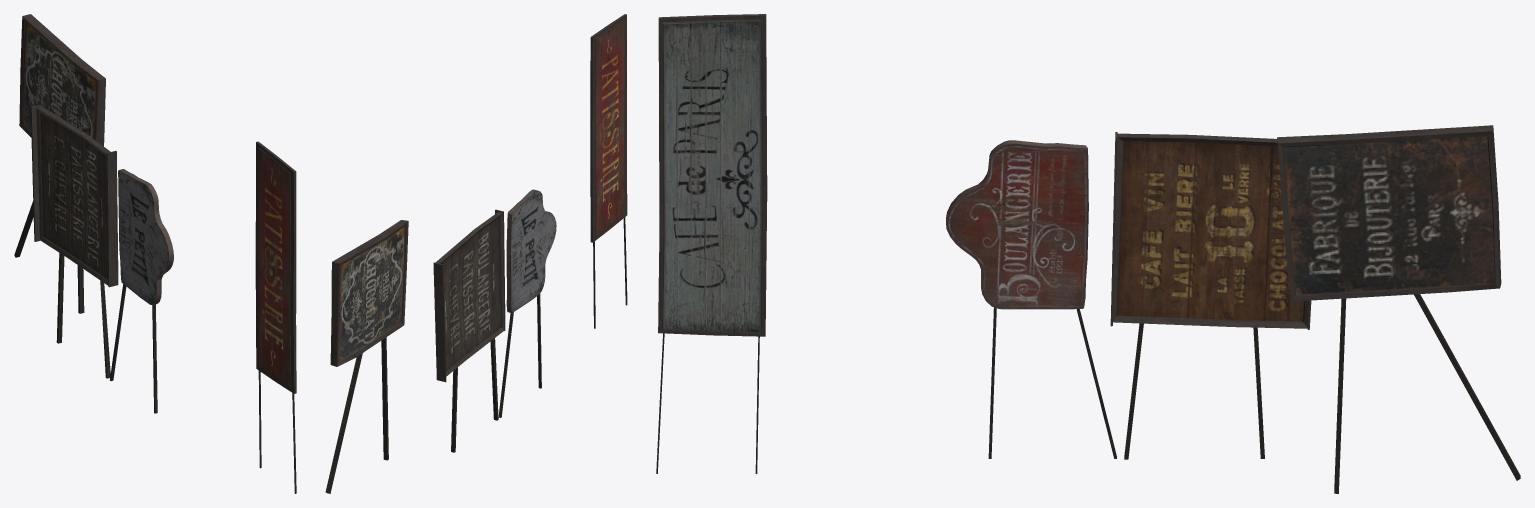
File: hd_env_112_10_AdvertisingPosters_08.glb
3 views of the same model, side by side, from view 1: azimuth 30°, elevation 25°; view 2: azimuth 150°, elevation 25°; view 3: azimuth 270°, elevation 25° (orthographic). The views are drawn at different scales.
Visible parts, largest first — view 1: set_0_group_0; view 2: set_0_group_0; view 3: set_0_group_0.
Part boxes in pixels (x1,y1,x2,y2): set_0_group_0: [14, 14, 296, 493]; set_0_group_0: [325, 14, 627, 493]; set_0_group_0: [656, 14, 1520, 493].
Bounding box in the file's own units: 0.603 × 3.04 × 5.18.
Materials: 1 (1 with a texture image).
